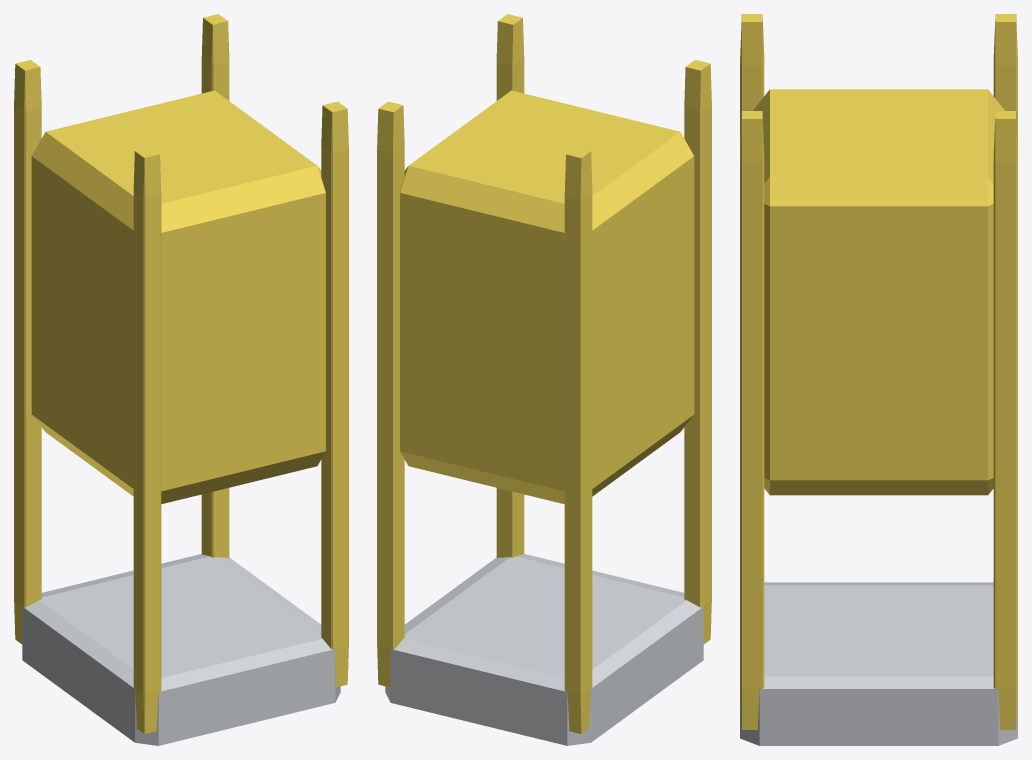
The model's file is b07_adjustable_steel_shoring_tripod.glb.
3 views of the same model, side by side, from view 1: azimuth 30°, elevation 25°; view 2: azimuth 150°, elevation 25°; view 3: azimuth 270°, elevation 25° (orthographic). The views are drawn at different scales.
Parts seen in each view (by area): view 1: b07_adjustable_steel_shoring_tripod; view 2: b07_adjustable_steel_shoring_tripod; view 3: b07_adjustable_steel_shoring_tripod.
Part boxes in pixels (<box>): b07_adjustable_steel_shoring_tripod: <box>14,14,348,745</box>; b07_adjustable_steel_shoring_tripod: <box>377,14,711,745</box>; b07_adjustable_steel_shoring_tripod: <box>740,14,1017,745</box>.
Bounding box in the file's own units: 1.02 × 2.82 × 1.12.
